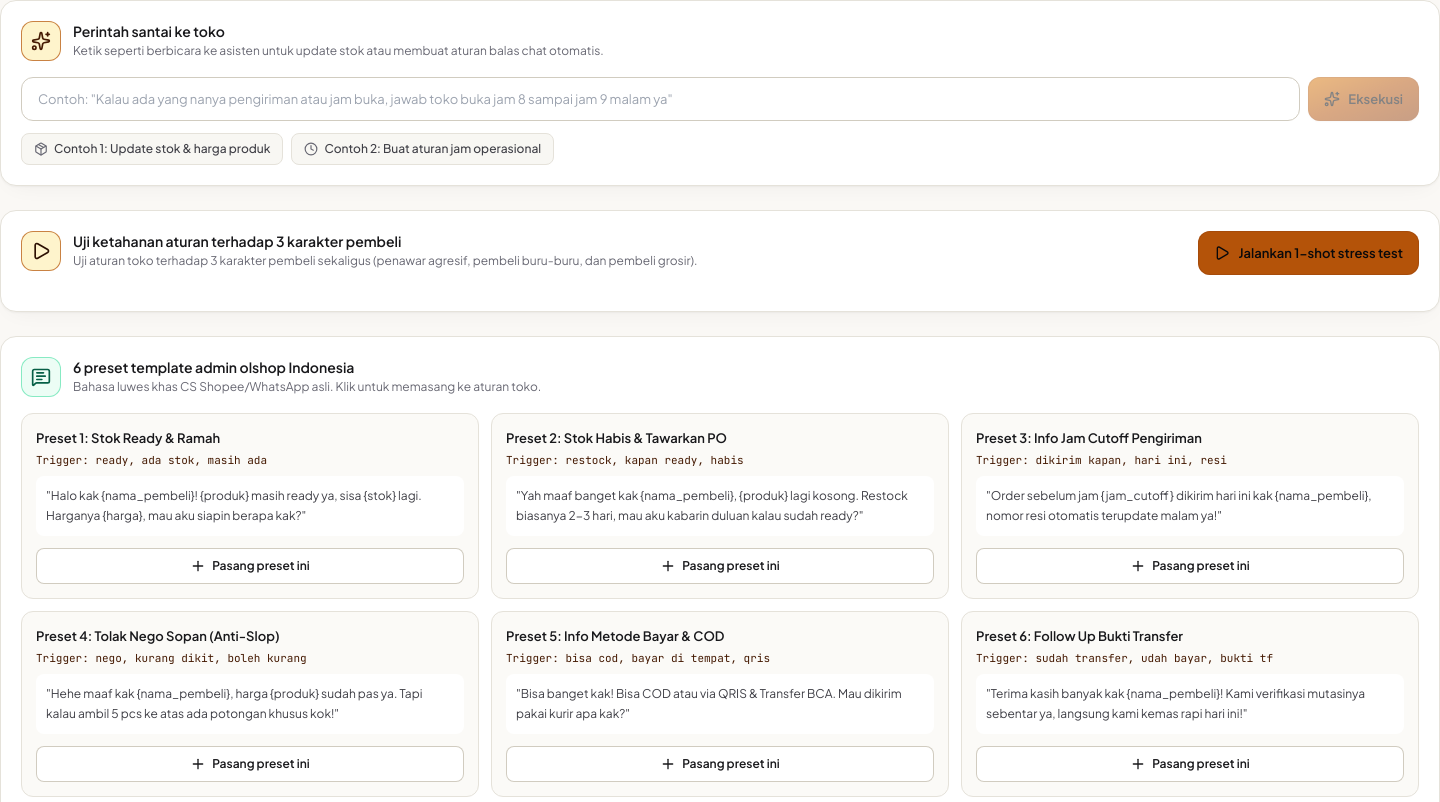
it: StoreStudio › perintah santai: Enter menjalankan, menampilkan hasil, mengosongkan input
Type "stok stiker 10" into the field named "Perintah untuk asisten toko" at {"x": 661, "y": 99}, box [21,77,1300,121]
Then press Enter
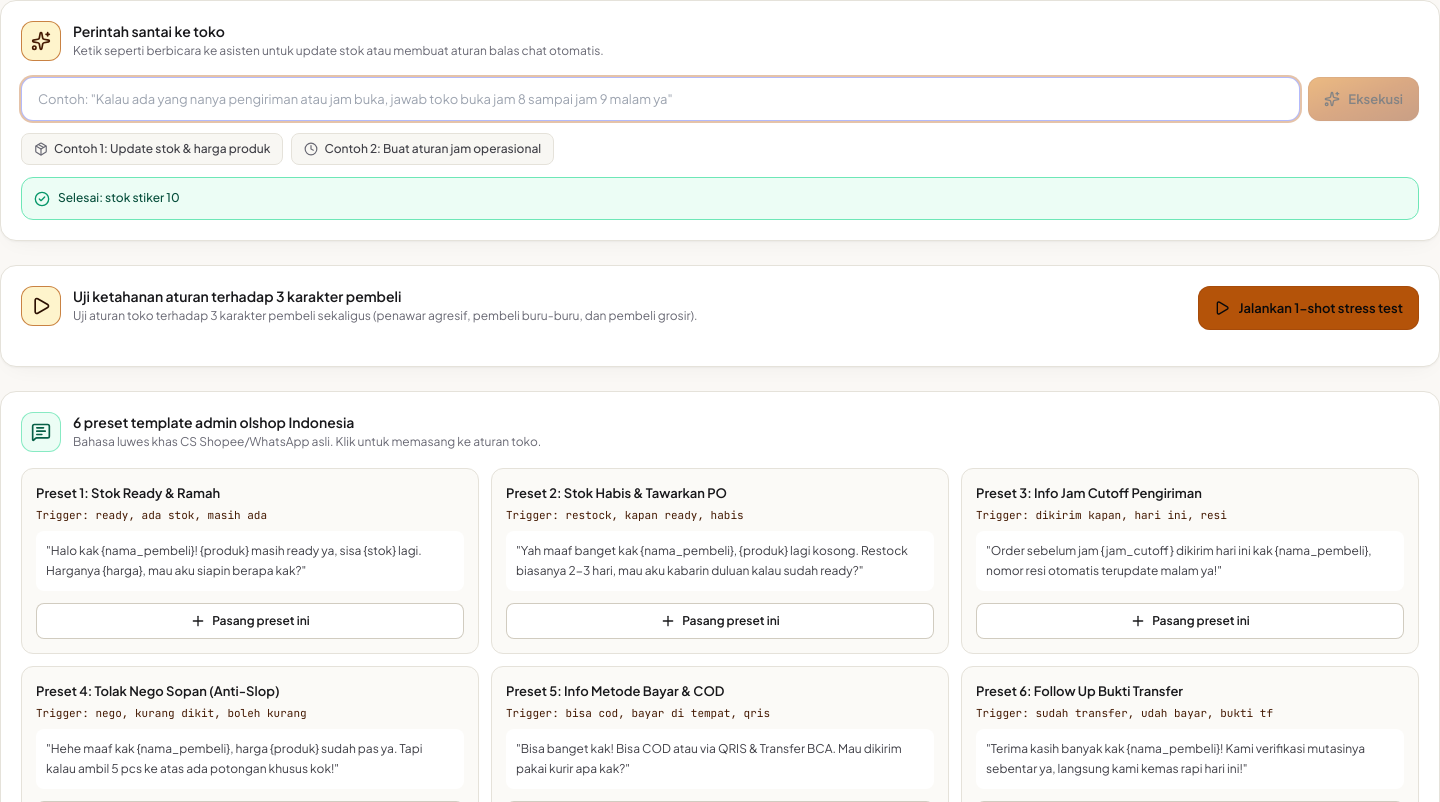
Expected: the text "Selesai: stok stiker 10" is shown, [58,190,180,206]
